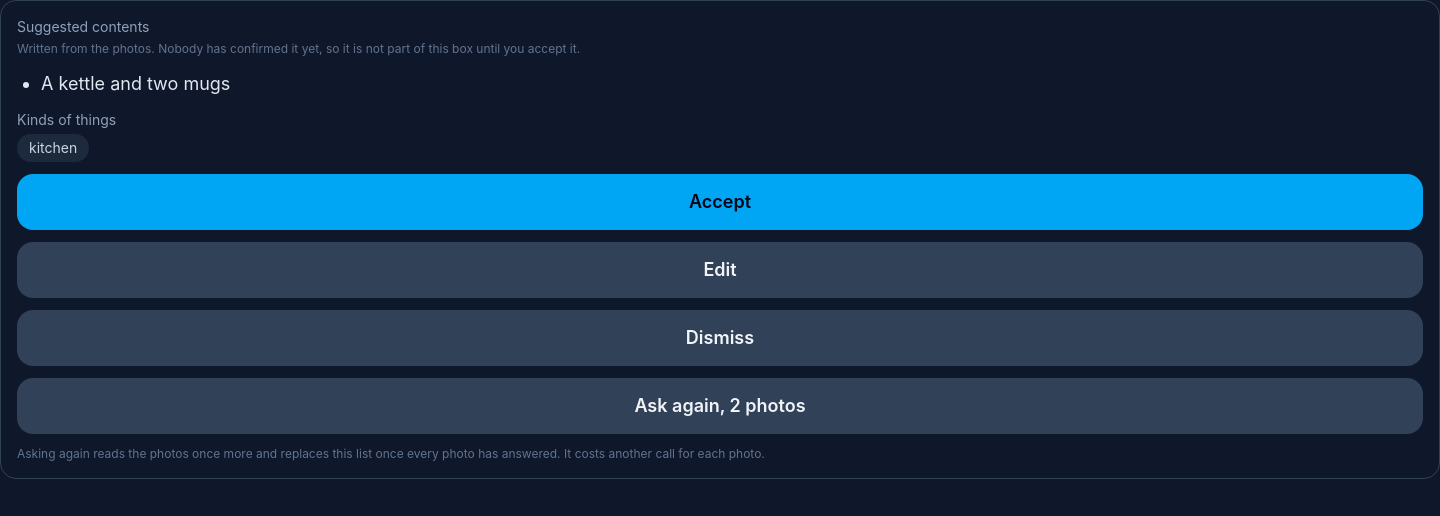
Test: Ask again › leaves the old text in place and says why when any photo fails
The image size is (1440, 516).
What coordinates should you click on to do the following:
click the button "Ask again, 2 photos"
I would click on:
 (720, 406)
Its box is left=17, top=378, right=1423, bottom=434.
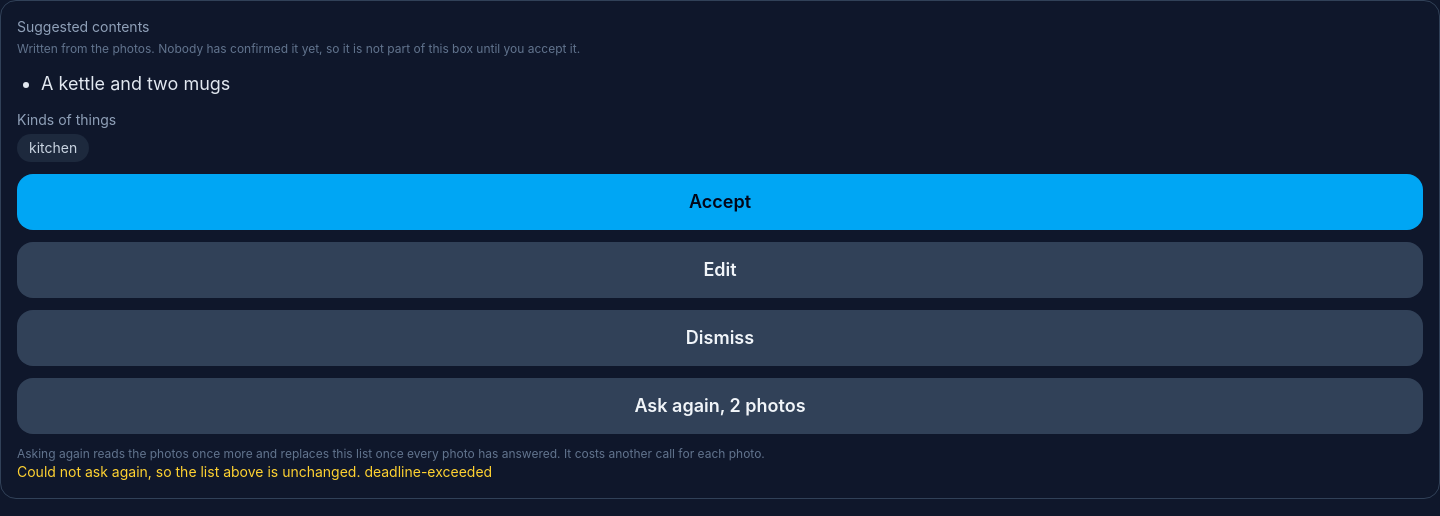
Check: the list item "A kettle and two mugs" is shown, box left=41, top=73, right=230, bottom=94
Check: the text "Could not ask again, so the list above is unchanged. deadline-exceeded" is shown, box left=17, top=463, right=492, bottom=480
